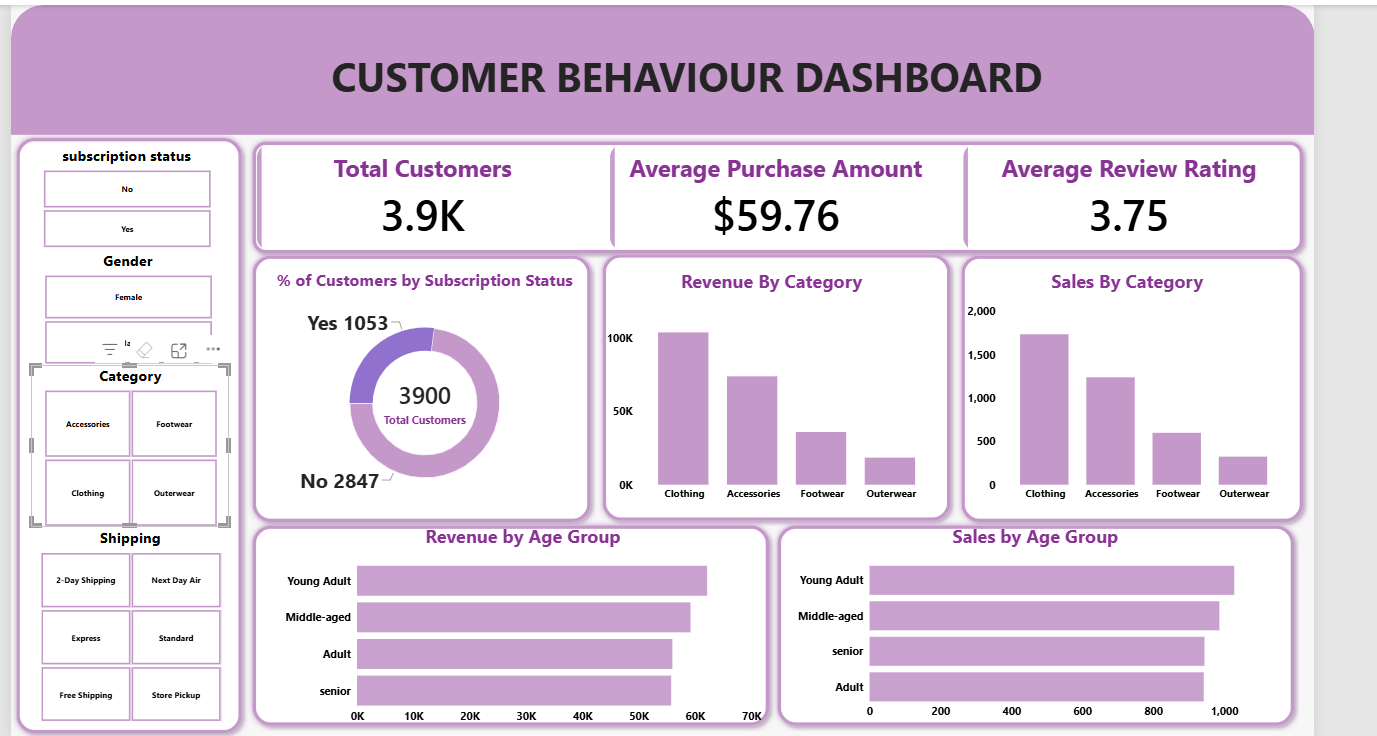

The dashboard page shown, as its layout file describes it:
{"tool":"powerbi","page":{"name":"Page 2","canvas":[1920,1080],"ordinal":0},"visuals":[{"type":"shape","title":"card shape","box":[347.9,193.3,1562.6,180.4],"z":0},{"type":"cardVisual","fields":{"Data":["Customer.Total Customers","Customer.Average Purchase Amount","Customer.Average Review Rating"]},"box":[346,187.7,1562.6,191.4],"z":1000},{"type":"shape","box":[0,0,1919.6,191.4],"z":2000},{"type":"textbox","title":"Header","box":[0,43.8,1909.6,148.2],"z":3000},{"type":"shape","title":"Donut Shape","box":[347.9,360.7,513.5,408.6],"z":4000},{"type":"donutChart","title":"% of Customers by Subscription Status","fields":{"Category":["Customer.subscription_status"],"Y":["CountNonNull(Customer.customer_id)"]},"box":[369.9,373.6,478.5,377.3],"z":5000},{"type":"shape","title":"Donut Shape","box":[862.4,358.9,528,408.6],"z":6000},{"type":"shape","title":"Donut Shape","box":[1391.4,360.7,519,408.6],"z":7000},{"type":"clusteredColumnChart","title":"Revenue By Category","fields":{"Y":["Sum(Customer.purchase_amount)"],"Category":["Customer.category"]},"box":[861.4,373.6,517.2,377.3],"z":8000},{"type":"clusteredColumnChart","title":"Sales By Category","fields":{"Category":["Customer.category"],"Y":["CountNonNull(Customer.customer_id)"]},"box":[1391.4,373.6,504.3,377.3],"z":9000},{"type":"shape","title":"Slicer shape","box":[0,187.7,347.9,892.6],"z":10000},{"type":"slicer","title":"subscription status","fields":{"Values":["Customer.subscription_status"]},"box":[27.6,206.1,285.3,152.8],"z":11000},{"type":"slicer","title":"Gender","fields":{"Values":["Customer.gender"]},"box":[29.4,360.7,285.3,169.3],"z":12000},{"type":"slicer","title":"Category","fields":{"Values":["Customer.category"]},"box":[29.5,530.5,292.6,238.9],"z":13000},{"type":"slicer","title":"Shipping","fields":{"Values":["Customer.shipping_type"]},"box":[23.9,769.3,303.7,287.1],"z":14000},{"type":"shape","title":"Donut Shape","box":[348.5,757.6,776.3,311],"z":15000},{"type":"clusteredBarChart","title":"Revenue by Age Group","fields":{"Y":["Sum(Customer.purchase_amount)"],"Category":["Customer.age_group"]},"box":[386.1,749.2,734.6,329.7],"z":16000},{"type":"shape","title":"Donut Shape","box":[1120.7,757.6,776.3,311],"z":17000},{"type":"clusteredBarChart","title":"Sales by Age Group","fields":{"Y":["CountNonNull(Customer.customer_id)"],"Category":["Customer.age_group"]},"box":[1141.6,749.2,734.6,323.5],"z":18000}]}

Visuals, with their boxes in screenshot pixels (x1, y1, x2, y2):
"card shape" shape: (left=251, top=137, right=1300, bottom=258)
cardVisual - Customer.Total Customers x Customer.Average Purchase Amount: (left=250, top=133, right=1299, bottom=262)
shape: (left=18, top=7, right=1306, bottom=136)
"Header" textbox: (left=18, top=37, right=1300, bottom=136)
"Donut Shape" shape: (left=251, top=249, right=596, bottom=524)
"% of Customers by Subscription Status" donutChart: (left=266, top=258, right=587, bottom=511)
"Donut Shape" shape: (left=597, top=248, right=951, bottom=522)
"Donut Shape" shape: (left=952, top=249, right=1300, bottom=524)
"Revenue By Category" clusteredColumnChart: (left=596, top=258, right=943, bottom=511)
"Sales By Category" clusteredColumnChart: (left=952, top=258, right=1290, bottom=511)
"Slicer shape" shape: (left=18, top=133, right=251, bottom=732)
"subscription status" slicer: (left=36, top=146, right=228, bottom=248)
"Gender" slicer: (left=38, top=249, right=229, bottom=363)
"Category" slicer: (left=38, top=363, right=234, bottom=524)
"Shipping" slicer: (left=34, top=524, right=238, bottom=716)
"Donut Shape" shape: (left=252, top=516, right=773, bottom=724)
"Revenue by Age Group" clusteredBarChart: (left=277, top=510, right=770, bottom=731)
"Donut Shape" shape: (left=770, top=516, right=1291, bottom=724)
"Sales by Age Group" clusteredBarChart: (left=784, top=510, right=1277, bottom=727)
